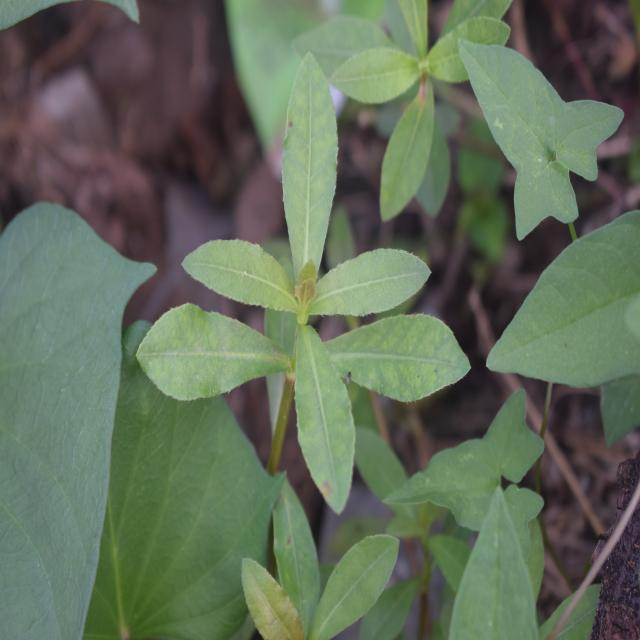Alligatorweed: (153, 72, 466, 500)
